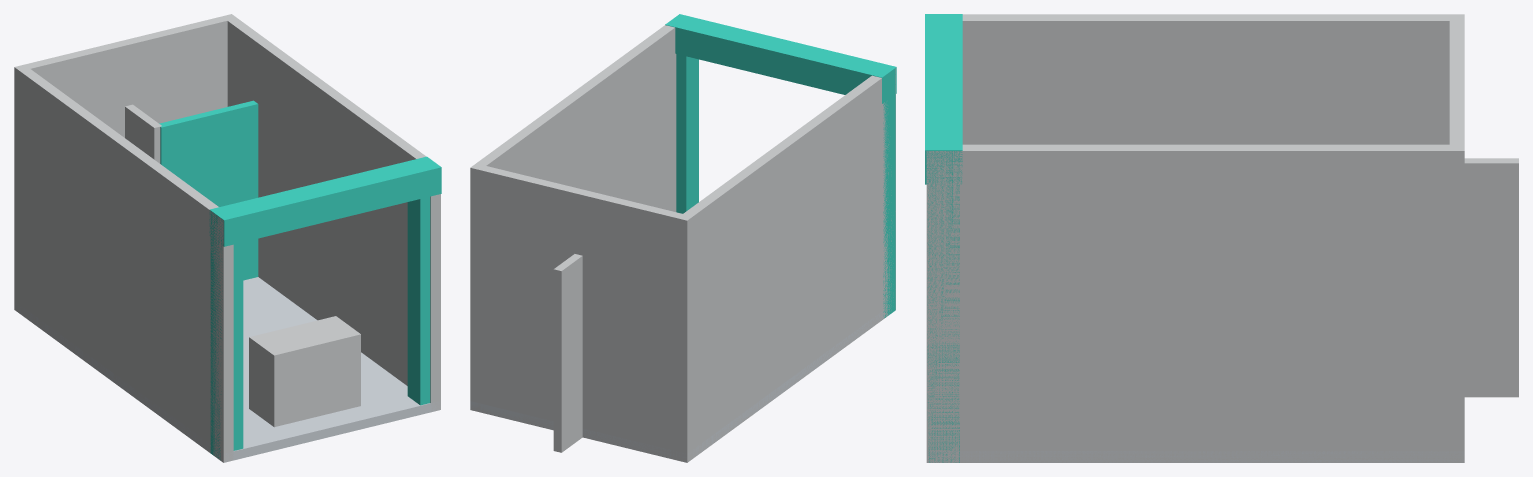
3 renders of one model, left to right at view 1: azimuth 30°, elevation 25°; view 2: azimuth 150°, elevation 25°; view 3: azimuth 270°, elevation 25°, orthographic. The views are drawn at different scales.
Visible parts, largest first — view 1: Exhibition Booth Concept; view 2: Exhibition Booth Concept; view 3: Exhibition Booth Concept.
Part boxes in pixels (x1,y1,x2,y2): Exhibition Booth Concept: [14, 14, 441, 462]; Exhibition Booth Concept: [470, 14, 896, 462]; Exhibition Booth Concept: [925, 14, 1518, 462].
Size of the model in its own units: 3 by 3.2 by 5.52.
